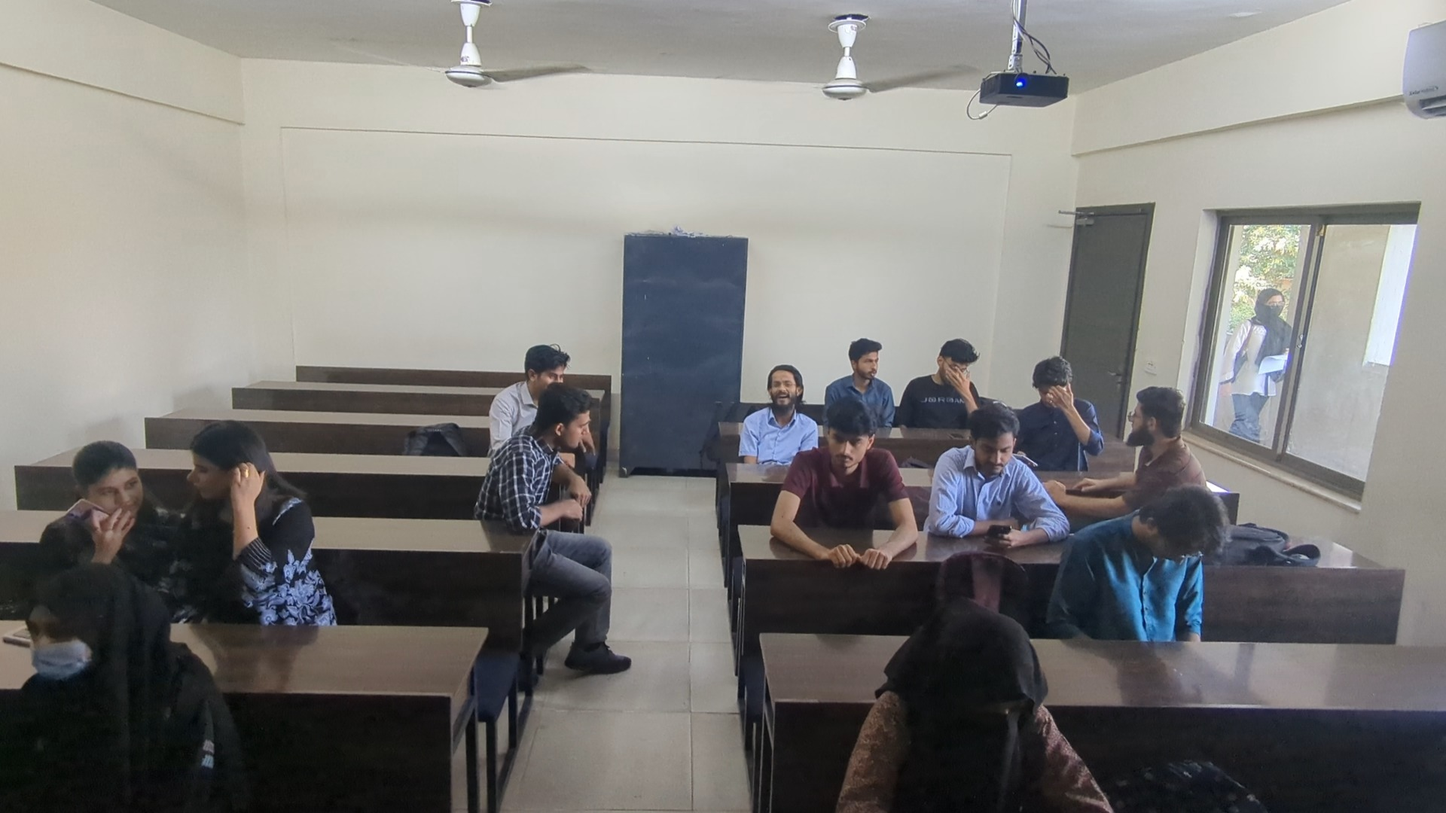look_forward: (743, 360, 822, 454)
read: (785, 591, 1125, 813)
sleep: (1015, 354, 1105, 470), (903, 331, 992, 425)
stand: (1235, 279, 1296, 442)
turn_head: (10, 572, 259, 808), (483, 381, 630, 673), (167, 409, 340, 645), (774, 395, 923, 571), (1111, 384, 1219, 493), (488, 339, 571, 419), (839, 325, 890, 399)
using_device: (1051, 470, 1224, 651), (925, 396, 1081, 551), (32, 426, 171, 574)
